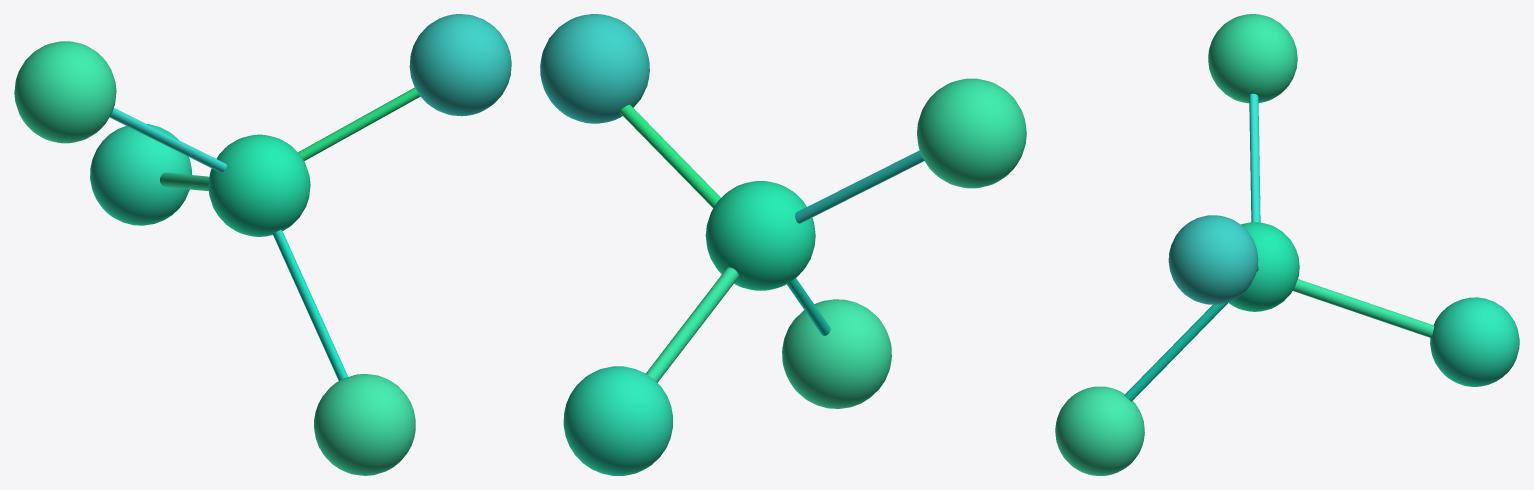
The model's file is loader.fbx.
The picture shows the model from 3 angles, left to right: view 1: azimuth 30°, elevation 25°; view 2: azimuth 150°, elevation 25°; view 3: azimuth 270°, elevation 25°; orthographic projection. The views are drawn at different scales.
Visible parts, largest first — view 1: Sphere.001, Sphere.004, Sphere.003, Sphere, Sphere.002, Cylinder.004, Cylinder, Cylinder.002, Cylinder.001; view 2: Sphere.001, Sphere.002, Sphere.004, Sphere, Sphere.003, Cylinder.001, Cylinder, Cylinder.002, Cylinder.004; view 3: Sphere.004, Sphere.003, Sphere.002, Sphere.001, Sphere, Cylinder.001, Cylinder.004, Cylinder.002.
Part boxes in pixels (<box>): Sphere.001: <box>14,41,116,143</box>; Sphere.004: <box>409,14,511,116</box>; Sphere.003: <box>314,374,415,475</box>; Sphere: <box>208,134,310,236</box>; Sphere.002: <box>90,124,191,225</box>; Cylinder.004: <box>272,230,347,380</box>; Cylinder: <box>298,87,420,161</box>; Cylinder.002: <box>109,108,226,172</box>; Cylinder.001: <box>160,172,209,191</box>; Sphere.001: <box>917,78,1026,188</box>; Sphere.002: <box>563,366,672,475</box>; Sphere.004: <box>540,14,649,123</box>; Sphere: <box>705,181,815,290</box>; Sphere.003: <box>782,299,891,408</box>; Cylinder.001: <box>646,267,738,382</box>; Cylinder: <box>619,104,720,208</box>; Cylinder.002: <box>795,150,924,223</box>; Cylinder.004: <box>786,278,830,335</box>; Sphere.004: <box>1168,215,1258,304</box>; Sphere.003: <box>1055,386,1144,475</box>; Sphere.002: <box>1430,297,1519,386</box>; Sphere.001: <box>1208,14,1297,103</box>; Sphere: <box>1228,222,1299,311</box>; Cylinder.001: <box>1293,279,1434,337</box>; Cylinder.004: <box>1124,302,1227,401</box>; Cylinder.002: <box>1249,93,1260,222</box>.
Size of the model in its own units: 1838 by 1574 by 1827.
